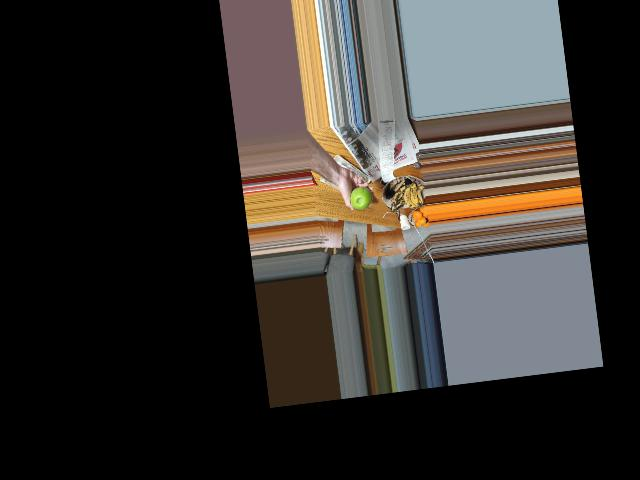apple: (348, 183, 374, 214)
